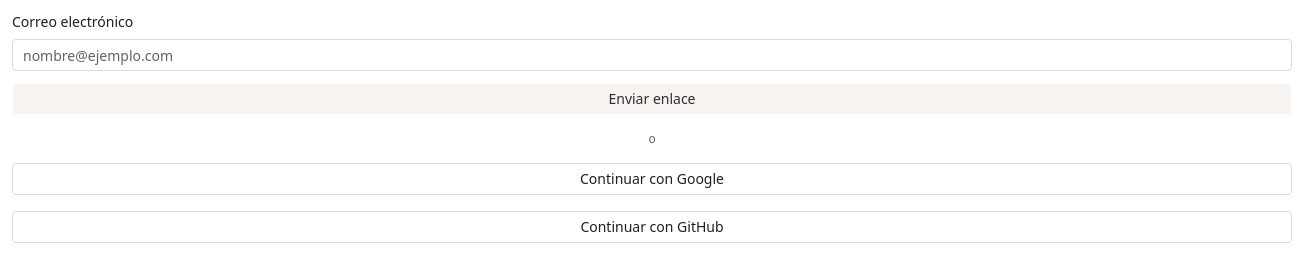
Test: SignInForm › sends a magic link and confirms in ES copy
Type "dev@example.com" into the field labelled "Correo electrónico" at (652, 55), box [12,39,1292,71]
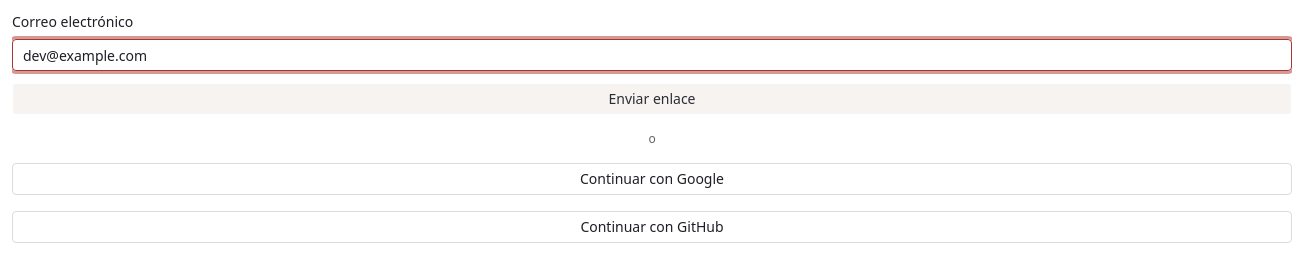
Click the button "Enviar enlace" at (652, 99), box [12,83,1292,115]
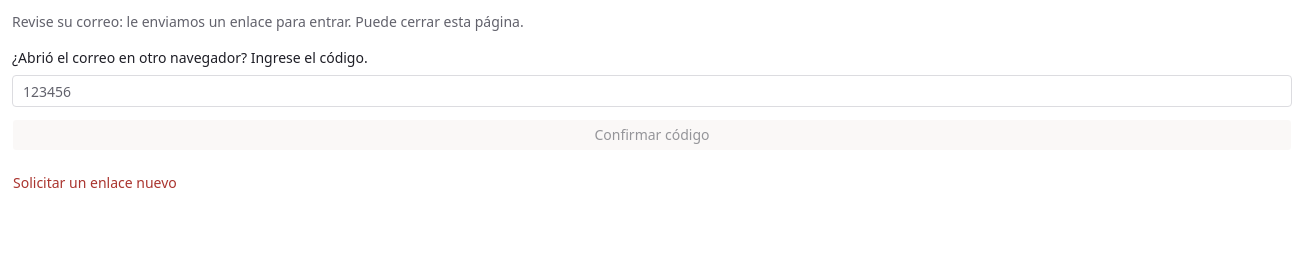
Expected: the message shows "Revise su correo", [12,12,524,31]
